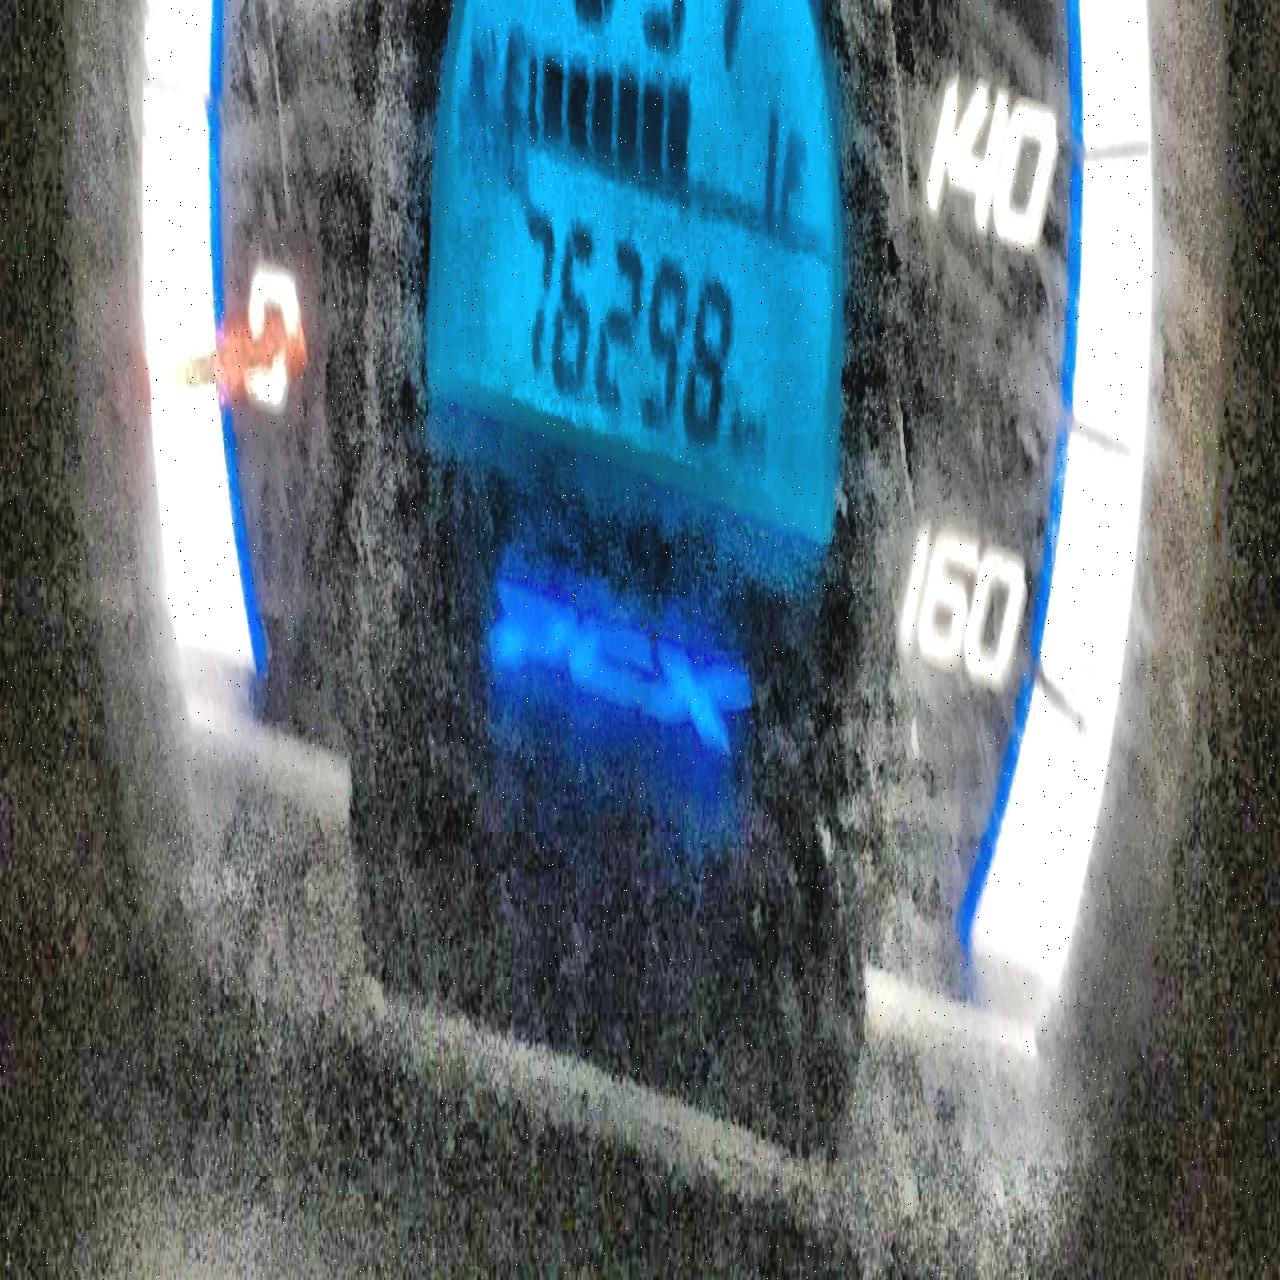2: (602, 231, 640, 407)
6: (556, 217, 591, 400)
7: (519, 192, 550, 377)
8: (689, 265, 727, 459)
9: (646, 248, 683, 433)
X: (778, 111, 812, 215), (502, 14, 525, 116)
odometer: (411, 0, 853, 572)
